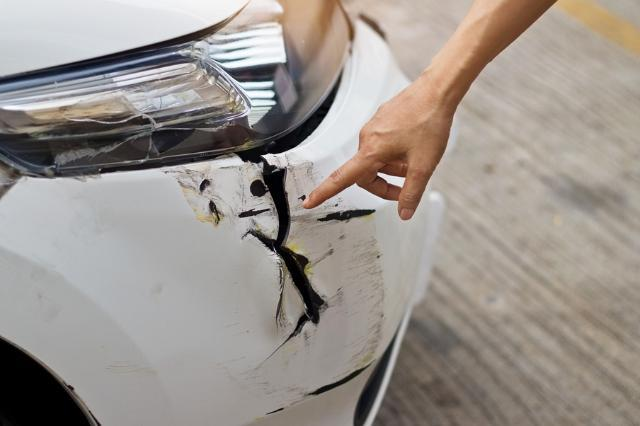Bumper: (166, 143, 400, 408)
